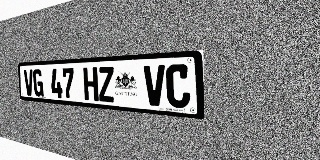4: (50, 68, 63, 98)
7: (62, 68, 75, 99)
C: (166, 64, 190, 109)
G: (33, 69, 44, 97)
H: (83, 67, 99, 101)
V: (144, 65, 166, 107), (24, 69, 34, 96)
Z: (98, 67, 115, 103)
